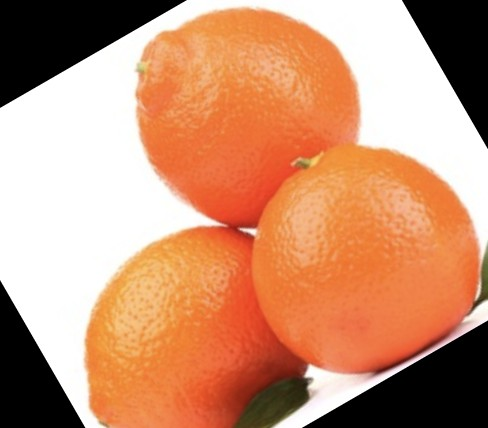fresh_orange: (252, 146, 481, 376), (134, 8, 362, 226), (83, 224, 312, 428)
